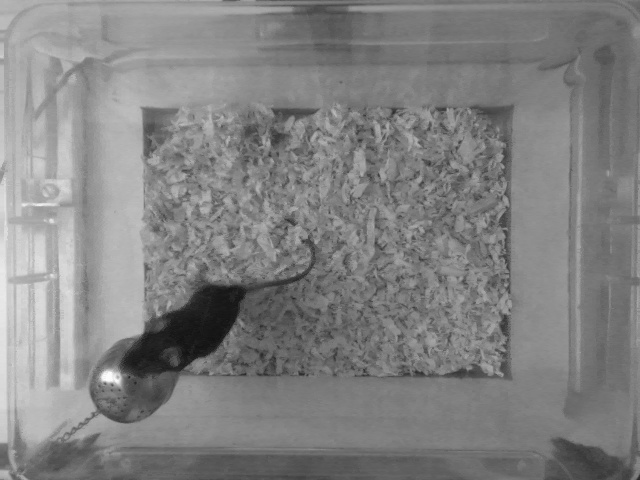mice: (118, 235, 319, 376)
